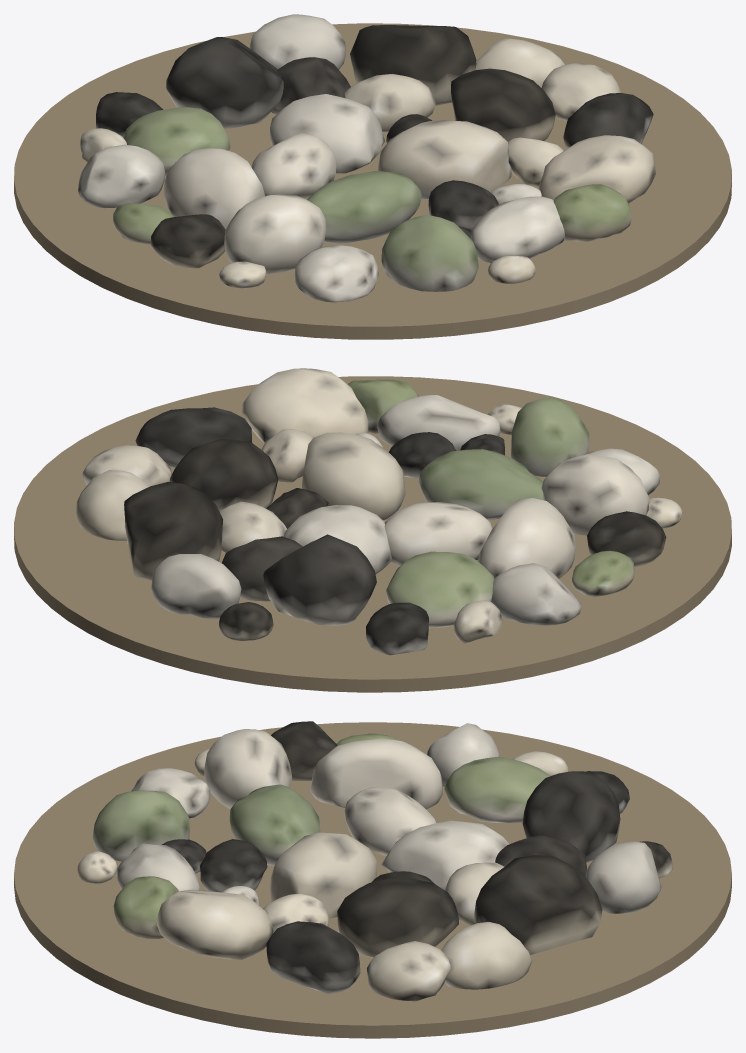
File: placeholder-crust.glb
3 renders of one model, top to bottom at view 1: azimuth 30°, elevation 25°; view 2: azimuth 150°, elevation 25°; view 3: azimuth 270°, elevation 25°, orthographic.
Parts seen in each view (by area): view 1: Pebbles, GroundDisc; view 2: Pebbles, GroundDisc; view 3: Pebbles, GroundDisc.
Boxes of the visible parts, bbox=[...] form: Pebbles: bbox=[78, 14, 655, 302]; GroundDisc: bbox=[14, 23, 731, 339]; Pebbles: bbox=[76, 368, 682, 655]; GroundDisc: bbox=[14, 376, 731, 692]; Pebbles: bbox=[77, 721, 672, 1001]; GroundDisc: bbox=[14, 722, 731, 1038].
Bounding box in the file's own units: 0.3 × 0.04 × 0.3.
